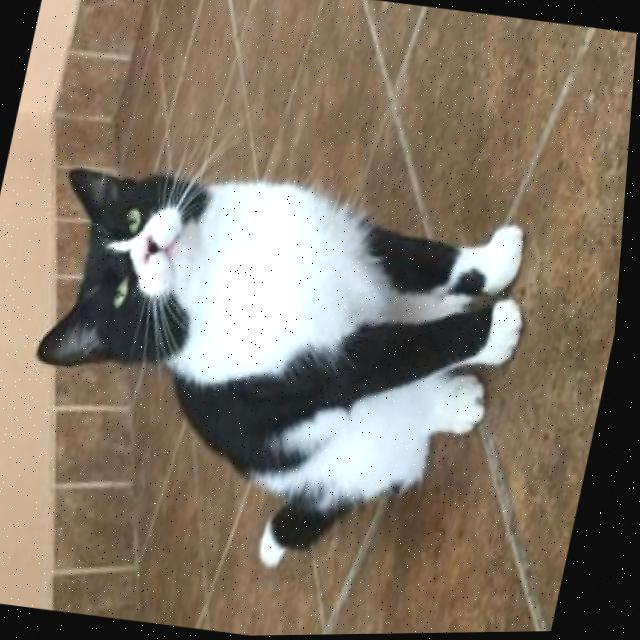Tuxedo: (0, 137, 563, 604)
